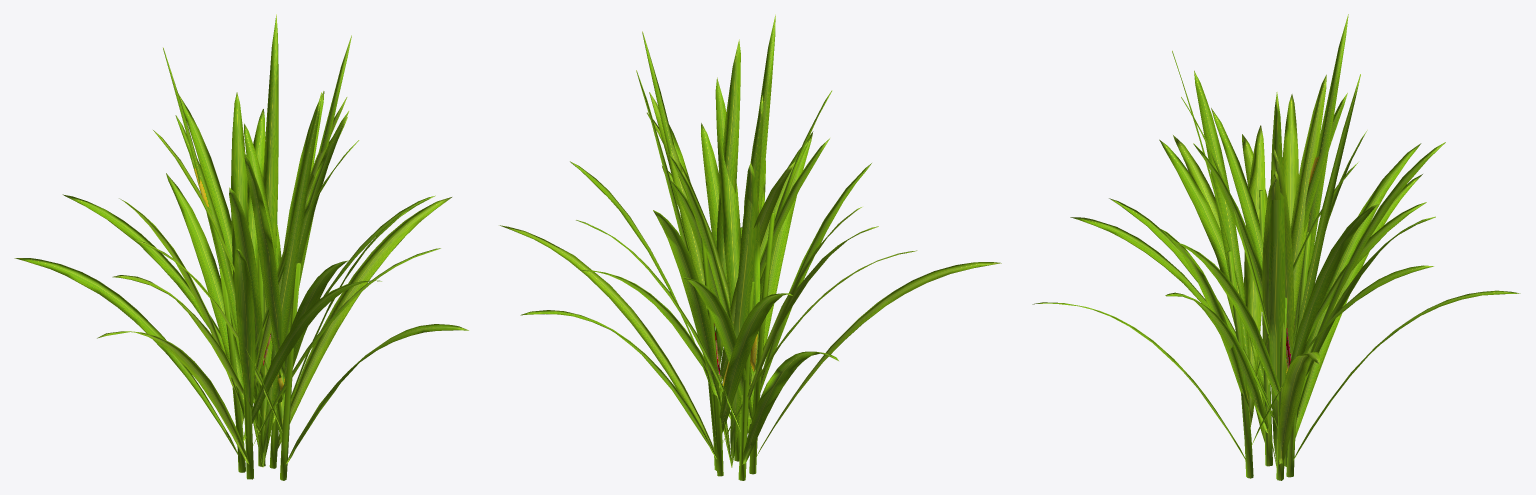
Rendered from NP_Rice_Young_LOD1.fbx.
3 renders of one model, left to right at view 1: azimuth 30°, elevation 25°; view 2: azimuth 150°, elevation 25°; view 3: azimuth 270°, elevation 25°, orthographic. The views are drawn at different scales.
Parts seen in each view (by area): view 1: NP_Rice_Young; view 2: NP_Rice_Young; view 3: NP_Rice_Young.
Part boxes in pixels (x1,y1,x2,y2): NP_Rice_Young: (14, 14, 468, 480); NP_Rice_Young: (499, 14, 1001, 480); NP_Rice_Young: (1032, 14, 1520, 480).
Bounding box in the file's own units: 85.08 × 78.63 × 81.91.
